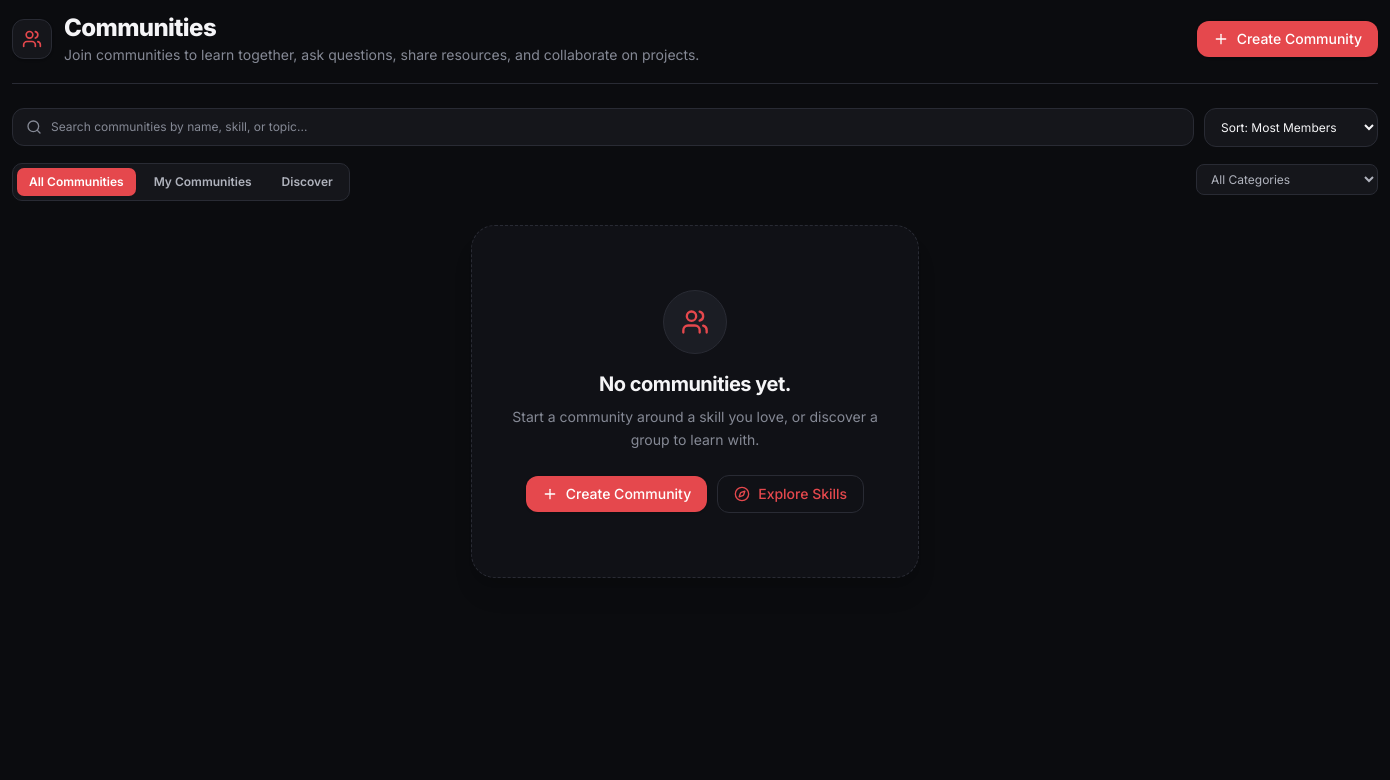
Test: Communities Feature - Service & Integration Tests › 2. CommunitiesPage Component Tests › switches between All, My Communities, and Discover tabs
The width and height of the screenshot is (1390, 780).
Expected: the heading "No communities yet." is shown, [599,370,791,398]
// Click "My Communities" tab
Click the button "My Communities": (203, 182) [142,168,264,196]
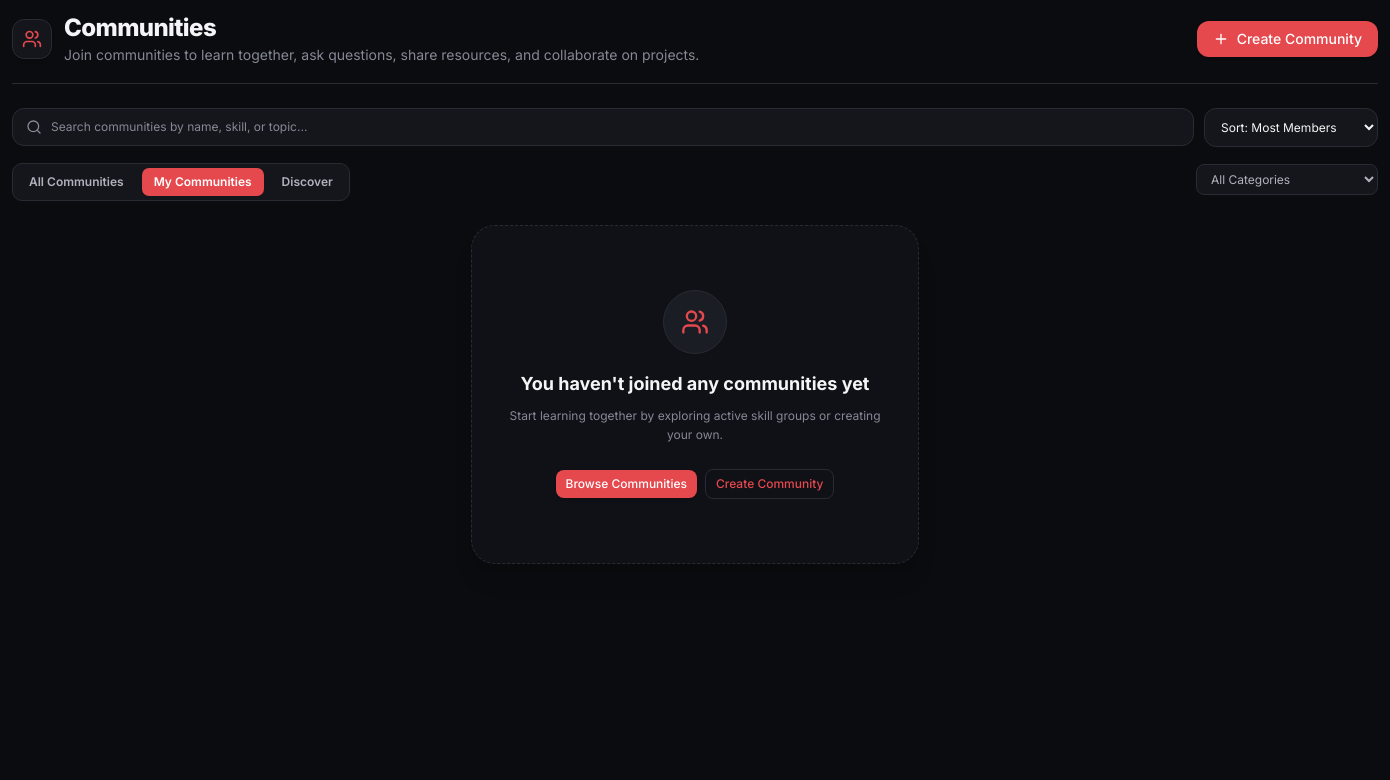
Expected: the heading "You haven't joined any communities yet" is shown, [520,370,869,398]
